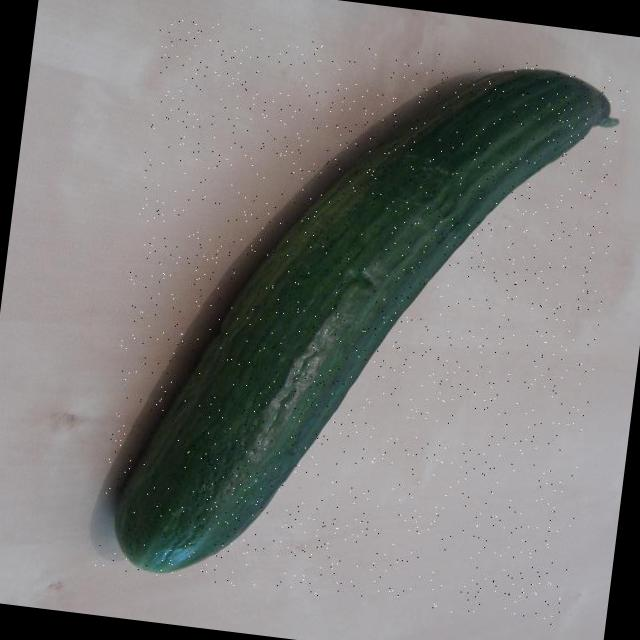Cucumber: (104, 11, 630, 632)
